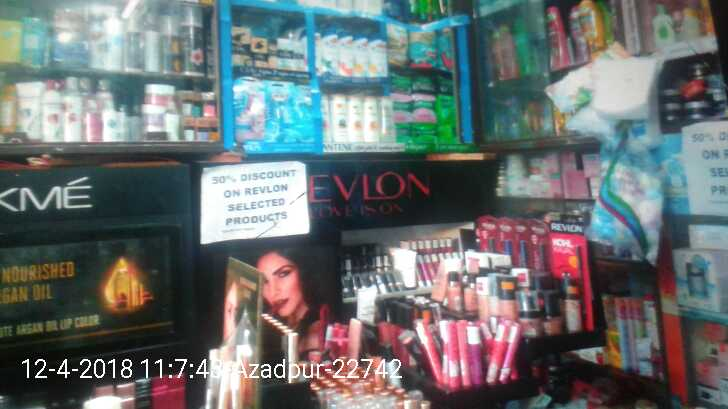venus: (234, 77, 265, 142), (266, 81, 293, 142), (294, 84, 311, 142)
